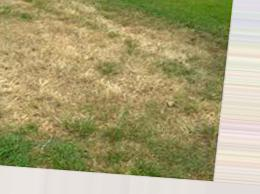patch: (10, 9, 92, 122), (94, 22, 164, 103), (141, 79, 211, 125), (163, 31, 198, 62)
